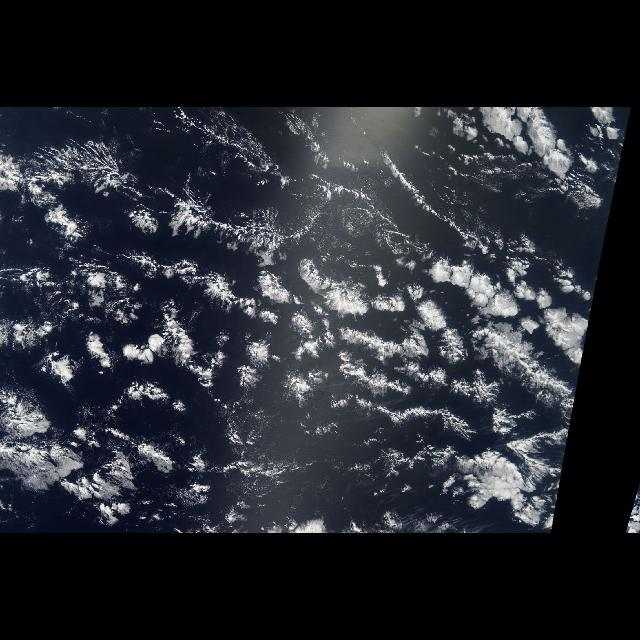Flower: (9, 112, 630, 526)
